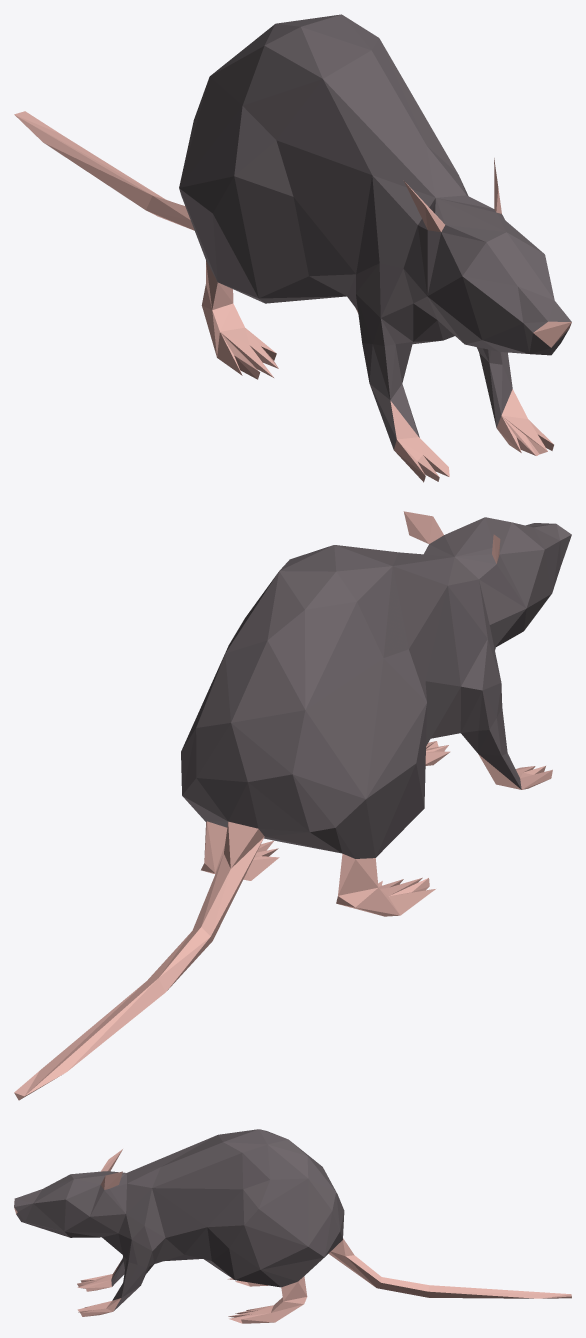
Rendered from Rat.glb.
3 views of the same model, one above another, from view 1: azimuth 30°, elevation 25°; view 2: azimuth 150°, elevation 25°; view 3: azimuth 270°, elevation 25° (orthographic). The views are drawn at different scales.
Parts seen in each view (by area): view 1: Rat; view 2: Rat; view 3: Rat.
Boxes of the visible parts, left/top/right/bottom form: Rat: left=14, top=14, right=571, bottom=482; Rat: left=14, top=511, right=571, bottom=1100; Rat: left=14, top=1129, right=571, bottom=1323.
Bounding box in the file's own units: 1.49 × 2.29 × 6.94.
